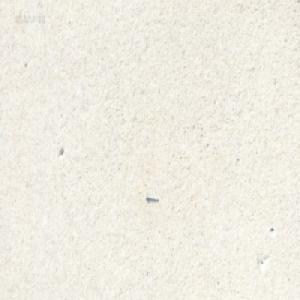Nail: (145, 192, 158, 201)
